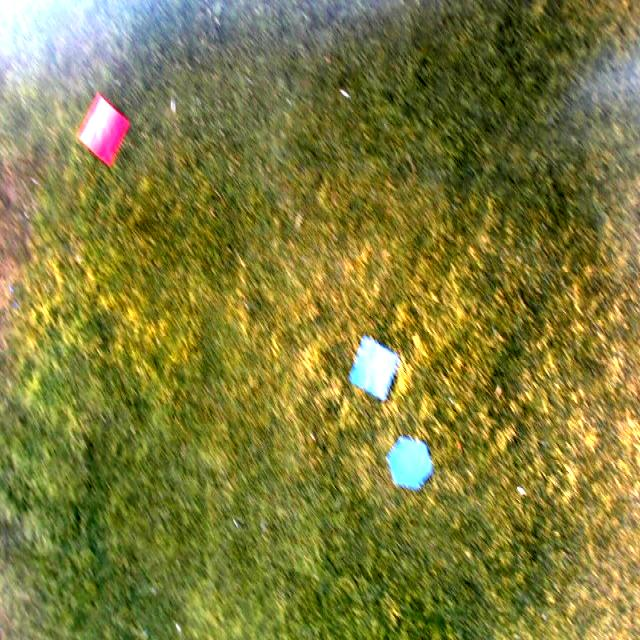blue_hexagon: (387, 437, 434, 488)
blue_square: (348, 338, 398, 402)
red_square: (76, 92, 128, 163)
